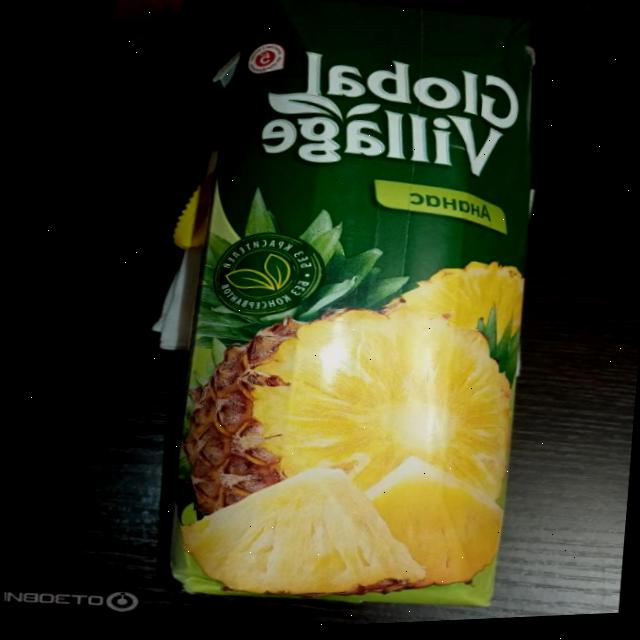Juice Global Village pineapple: (162, 0, 553, 621)
